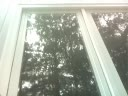window: (26, 8, 85, 96), (105, 32, 121, 61), (100, 12, 121, 34), (122, 13, 128, 78)
